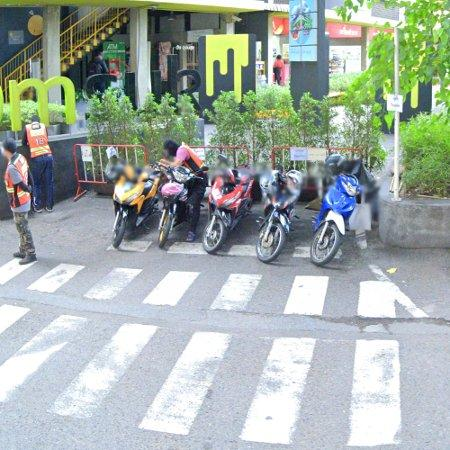crosswalks: (0, 302, 402, 449)
